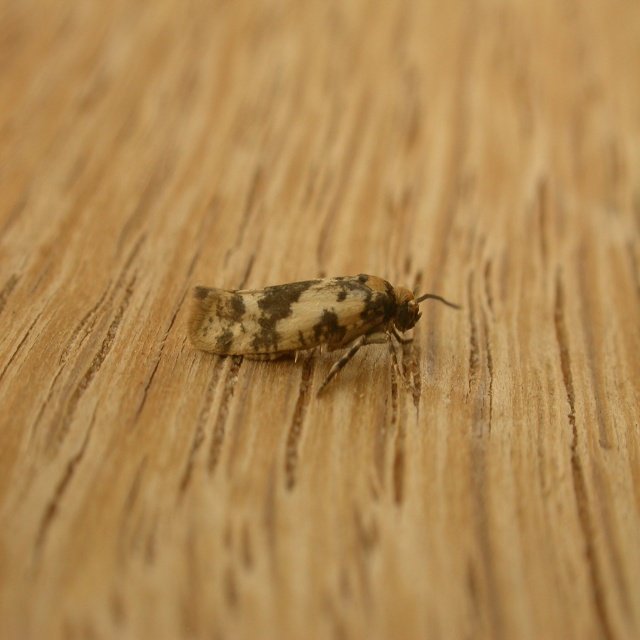Moths and butterflies: (188, 263, 471, 399)
